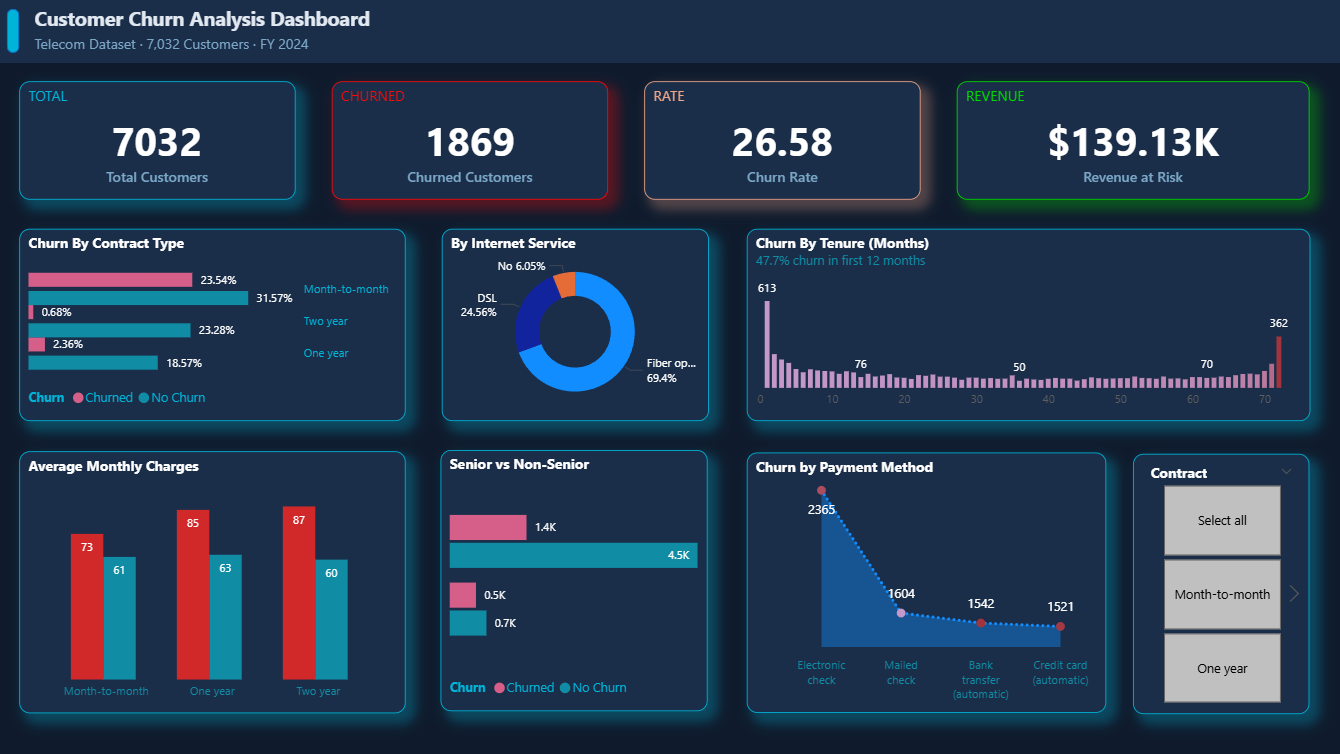

The dashboard page shown, as its layout file describes it:
{"tool":"powerbi","page":{"name":"Churn Dashboard","canvas":[1280,720],"ordinal":0},"visuals":[{"type":"shape","box":[0,0,1279.5,60.2],"z":0},{"type":"shape","box":[8.4,8.4,12,42.2],"z":1000},{"type":"textbox","box":[30.1,0,349.4,44.6],"z":2000},{"type":"textbox","box":[30.1,27.7,313.3,32.5],"z":3000},{"type":"card","title":"TOTAL","fields":{"Values":["CountNonNull(churn_final.customerID)"]},"box":[20.6,76.8,263,112.5],"z":4000},{"type":"card","title":"CHURNED","fields":{"Values":["CountNonNull(churn_final.Churn)"]},"box":[317.6,76.8,263.5,112.5],"z":5000},{"type":"card","title":"RATE","fields":{"Values":["churn_final.Churn Rate"]},"box":[615.1,76.8,263.5,112.5],"z":6000},{"type":"card","title":"REVENUE","fields":{"Values":["churn_final.Revenue at Risk"]},"box":[912.5,76.8,336.2,112.5],"z":7000},{"type":"clusteredBarChart","title":"Churn By Contract Type","fields":{"Category":["churn_final.Contract"],"Y":["CountNonNull(churn_final.customerID)"],"Series":["churn_final.Churn"]},"box":[20,217.6,368.2,183.5],"z":8000},{"type":"donutChart","title":"By Internet Service","fields":{"Category":["churn_final.InternetService"],"Y":["CountNonNull(churn_final.customerID)"]},"box":[422.4,217.6,254.1,183.5],"z":9000},{"type":"clusteredColumnChart","title":"Churn By Tenure (Months)","fields":{"Category":["churn_final.tenure"],"Y":["CountNonNull(churn_final.customerID)"]},"box":[712.9,217.6,536.5,183.5],"z":10000},{"type":"clusteredColumnChart","title":"Average Monthly Charges","fields":{"Category":["churn_final.Contract"],"Y":["Avg(churn_final.MonthlyCharges)"],"Series":["churn_final.Churn"]},"box":[20,429.4,368.2,249.4],"z":11000},{"type":"clusteredBarChart","title":"Senior vs Non-Senior","fields":{"Category":["churn_final.SeniorCitizen"],"Y":["CountNonNull(churn_final.customerID)"],"Series":["churn_final.Churn"]},"box":[422,429,254,249],"z":12000},{"type":"lineChart","title":"Churn by Payment Method","fields":{"Category":["churn_final.PaymentMethod"],"Y":["CountNonNull(churn_final.customerID)"]},"box":[712.9,430.6,342.4,248.2],"z":13000},{"type":"slicer","fields":{"Values":["churn_final.Contract"]},"box":[1081.2,431.8,168.2,248.2],"z":14000}]}

Visuals, with their boxes in screenshot pixels (x1, y1, x2, y2), scaled from the page's 1280x720 canvas onto the 1340x754 screenshot:
shape: 0 0 1339 63
shape: 9 9 21 53
textbox: 32 0 397 47
textbox: 32 29 359 63
"TOTAL" card: 22 80 297 198
"CHURNED" card: 332 80 608 198
"RATE" card: 644 80 920 198
"REVENUE" card: 955 80 1307 198
"Churn By Contract Type" clusteredBarChart: 21 228 406 420
"By Internet Service" donutChart: 442 228 708 420
"Churn By Tenure (Months)" clusteredColumnChart: 746 228 1308 420
"Average Monthly Charges" clusteredColumnChart: 21 450 406 711
"Senior vs Non-Senior" clusteredBarChart: 442 449 708 710
"Churn by Payment Method" lineChart: 746 451 1105 711
slicer - churn_final.Contract: 1132 452 1308 712
